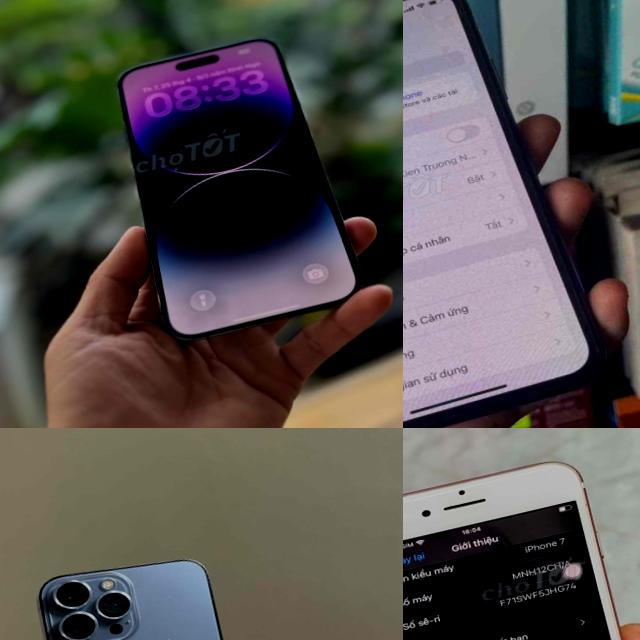gen_12_13: (12, 538, 278, 640)
gen_14: (92, 14, 378, 346)
gen_7_8: (403, 447, 640, 640)
gen_x_xs: (403, 0, 608, 428)
